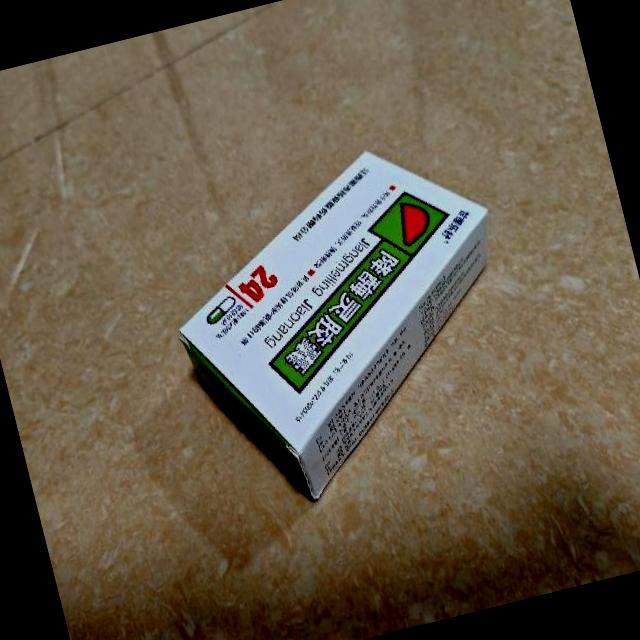box: (146, 126, 544, 523)
